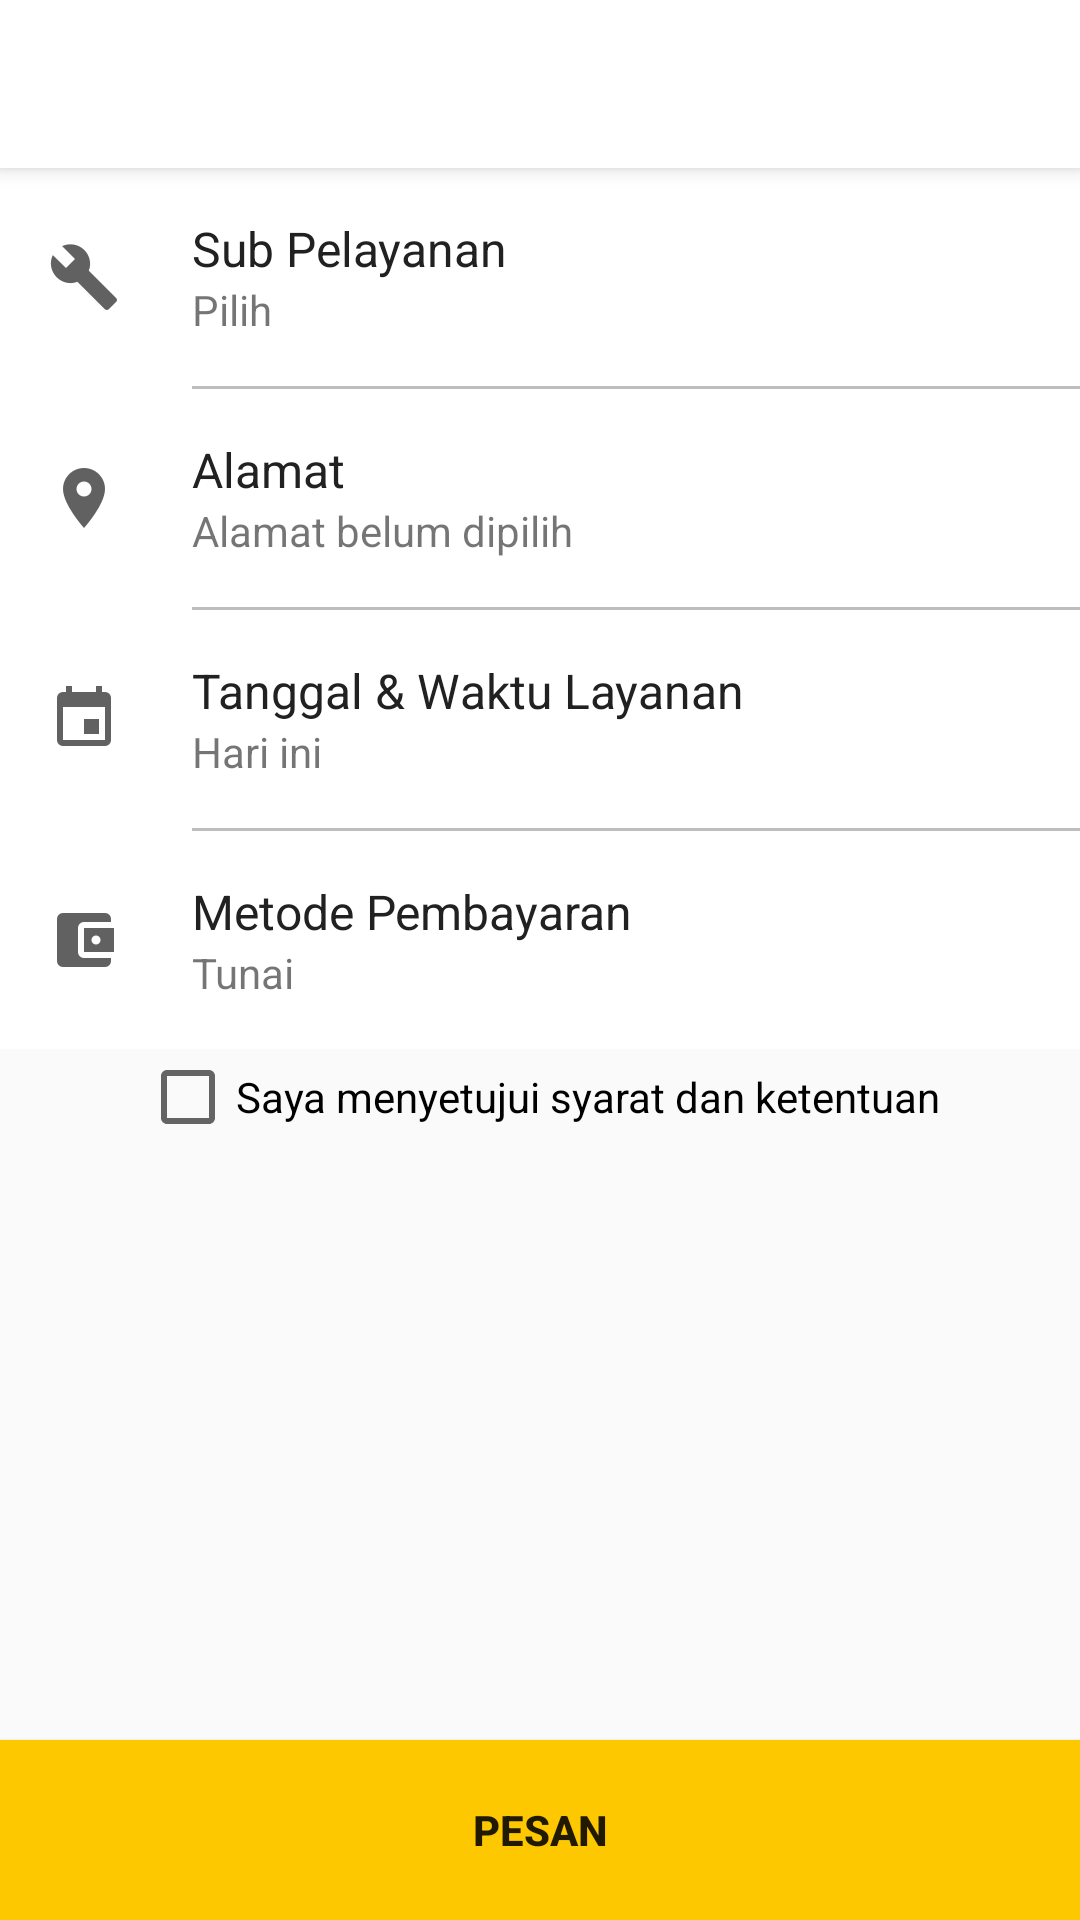

Point at icon controls on the screen. Image size 1080 × 1920, points as (x=x, y=y).
calendar: (x=84, y=716)
marker: (x=84, y=498)
wallet: (x=85, y=940)
wrench: (x=84, y=277)
